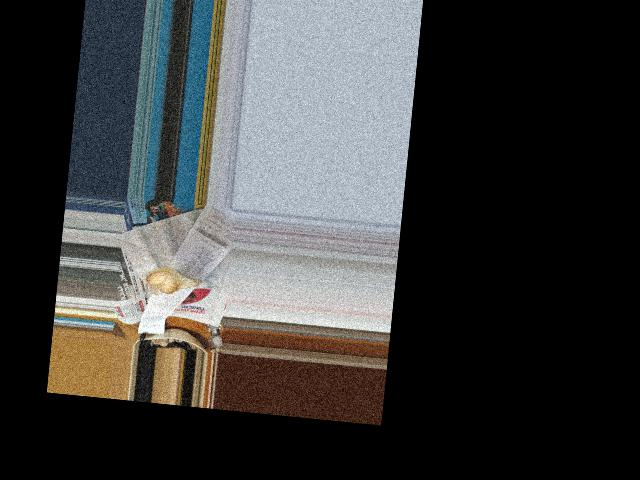onion: (144, 265, 192, 297)
